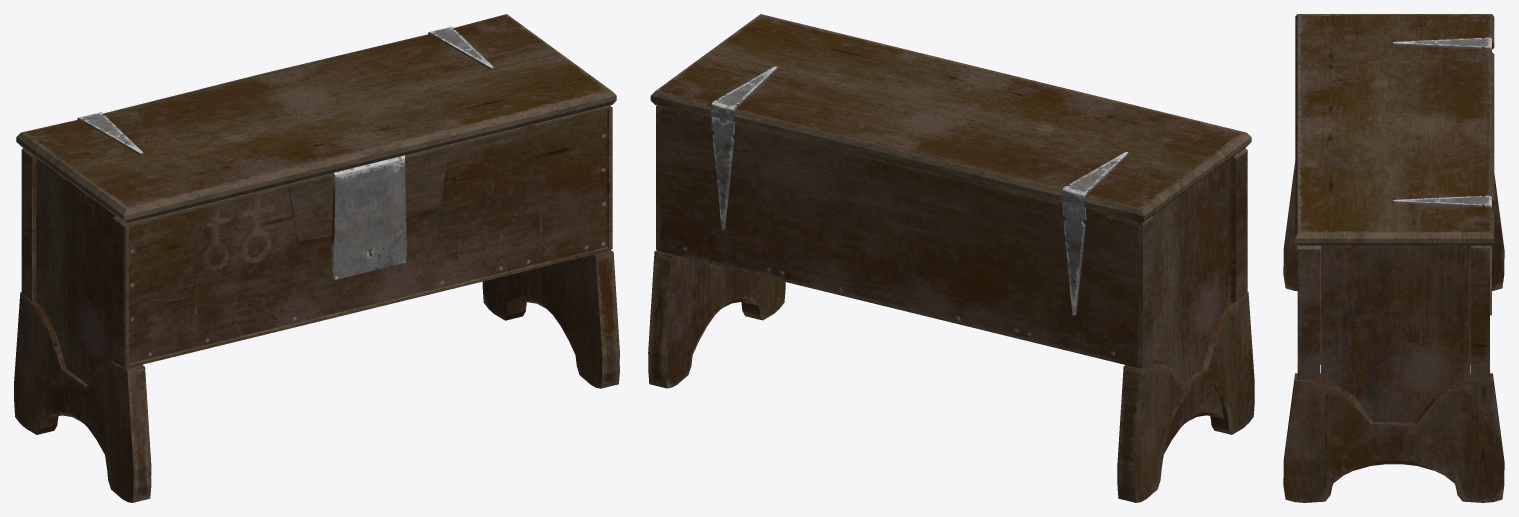
Rendered from Coffer.fbx.
3 views of the same model, side by side, from view 1: azimuth 30°, elevation 25°; view 2: azimuth 150°, elevation 25°; view 3: azimuth 270°, elevation 25° (orthographic). The views are drawn at different scales.
Visible parts, largest first — view 1: Coffer; view 2: Coffer; view 3: Coffer.
Part boxes in pixels (bbox=[...]): Coffer: bbox=[14, 14, 619, 502]; Coffer: bbox=[648, 14, 1254, 502]; Coffer: bbox=[1283, 14, 1504, 502].
Size of the model in its own units: 110 by 62.91 by 46.37.
